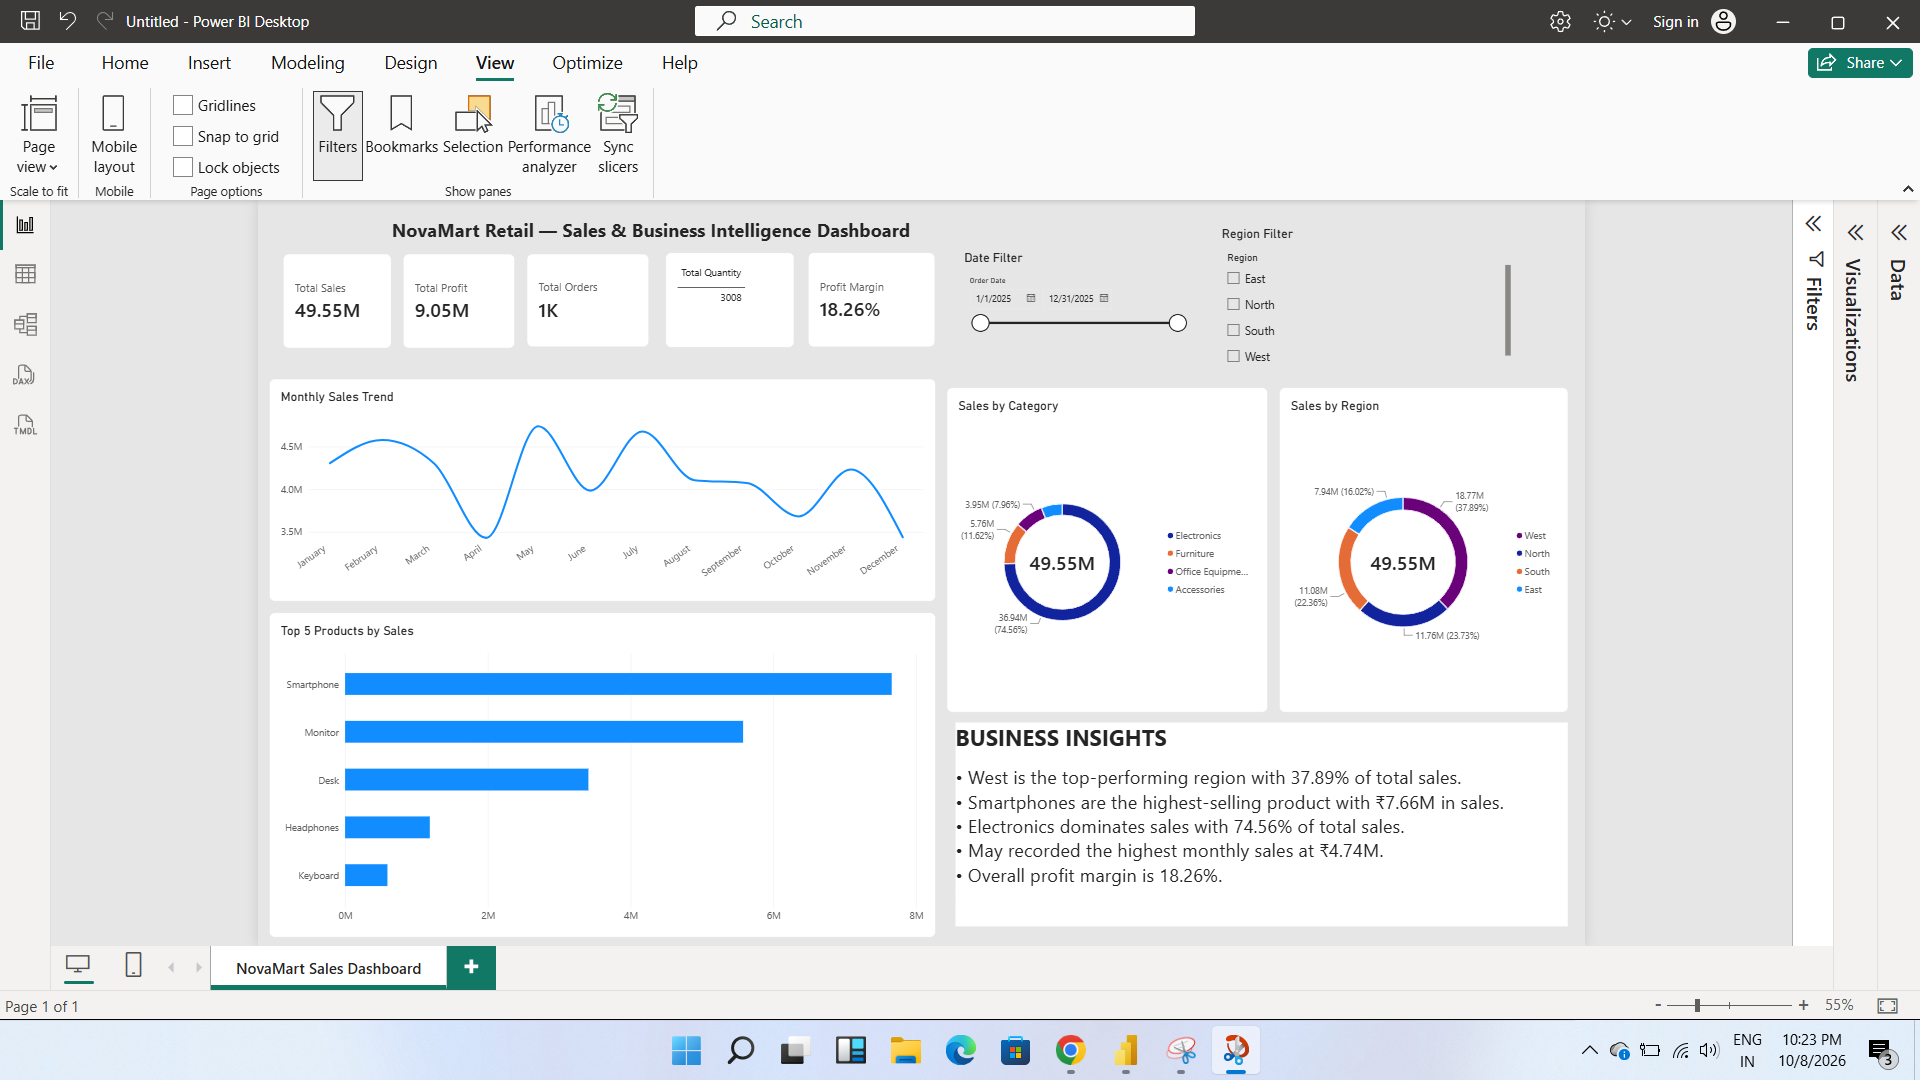

Layout of this report page (visuals, bound fields, positions):
{"tool":"powerbi","page":{"name":"NovaMart Sales Dashboard","canvas":[1920,1080],"ordinal":0},"visuals":[{"type":"cardVisual","fields":{"Data":["NovaMart_Sales_Data.Total Sales Measure"]},"box":[36.2,77.8,157.4,137.5],"z":0},{"type":"cardVisual","fields":{"Data":["NovaMart_Sales_Data.Total Profit Measure"]},"box":[209.9,77.8,162.9,137.5],"z":1000},{"type":"cardVisual","fields":{"Data":["NovaMart_Sales_Data.Total Orders Measure"]},"box":[389.1,77.8,177.3,135.7],"z":2000},{"type":"cardVisual","fields":{"Data":["NovaMart_Sales_Data.Profit Margin Measure"]},"box":[796.3,76,184.6,137.5],"z":3000},{"type":"tableEx","fields":{"Values":["NovaMart_Sales_Data.Total Quantity Measure"]},"box":[589.9,76,186.4,137.5],"z":4000},{"type":"lineChart","title":"Monthly Sales Trend","fields":{"Category":["NovaMart_Sales_Data.Order Date.Variation.Date Hierarchy.Month"],"Y":["NovaMart_Sales_Data.Total Sales Measure"]},"box":[16.3,258.8,964.5,322.1],"z":5000},{"type":"donutChart","title":"Sales by Region","fields":{"Category":["NovaMart_Sales_Data.Region"],"Y":["NovaMart_Sales_Data.Total Sales Measure"]},"box":[1478.5,271.4,418,470.5],"z":6000},{"type":"donutChart","title":"Sales by Category","fields":{"Category":["NovaMart_Sales_Data.Category"],"Y":["NovaMart_Sales_Data.Total Sales Measure"]},"box":[997.1,271.4,465.1,470.5],"z":7000},{"type":"slicer","title":"Date Filter","fields":{"Values":["NovaMart_Sales_Data.Order Date"]},"box":[1022.5,72.4,325.2,164.7],"z":8000},{"type":"slicer","title":"Region Filter","fields":{"Values":["NovaMart_Sales_Data.Region"]},"box":[1395.2,38,418,199.1],"z":9000},{"type":"textbox","box":[157.4,25.3,823.3,47.3],"z":10000},{"type":"textbox","box":[1009.8,756.4,886.7,295],"z":11000},{"type":"clusteredBarChart","fields":{"Category":["NovaMart_Sales_Data.Product"],"Y":["NovaMart_Sales_Data.Total Sales Measure"]},"box":[16.3,593.6,964.5,457.8],"z":12000}]}

Visuals, with their boxes on the page's 1920x1080 design canvas (x1, y1, x2, y2). These are canvas units, not pixel positions in the 1920x1080 screenshot, which may show the page scaled, cropped or inside an application window:
cardVisual - NovaMart_Sales_Data.Total Sales Measure: region(36, 78, 194, 215)
cardVisual - NovaMart_Sales_Data.Total Profit Measure: region(210, 78, 373, 215)
cardVisual - NovaMart_Sales_Data.Total Orders Measure: region(389, 78, 566, 214)
cardVisual - NovaMart_Sales_Data.Profit Margin Measure: region(796, 76, 981, 214)
tableEx - NovaMart_Sales_Data.Total Quantity Measure: region(590, 76, 776, 214)
"Monthly Sales Trend" lineChart: region(16, 259, 981, 581)
"Sales by Region" donutChart: region(1478, 271, 1896, 742)
"Sales by Category" donutChart: region(997, 271, 1462, 742)
"Date Filter" slicer: region(1022, 72, 1348, 237)
"Region Filter" slicer: region(1395, 38, 1813, 237)
textbox: region(157, 25, 981, 73)
textbox: region(1010, 756, 1896, 1051)
clusteredBarChart - NovaMart_Sales_Data.Product x NovaMart_Sales_Data.Total Sales Measure: region(16, 594, 981, 1051)
